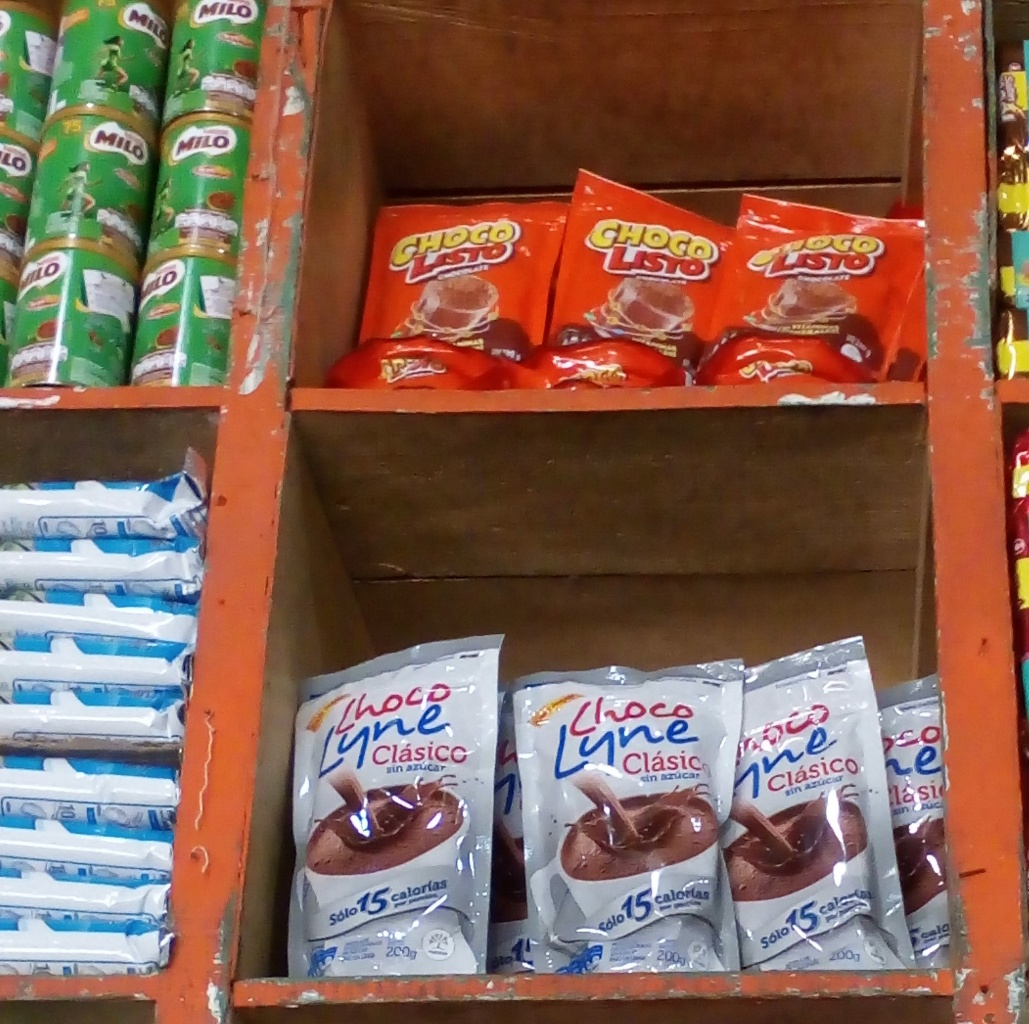COL0170203LAT20000: (121, 244, 242, 396)
